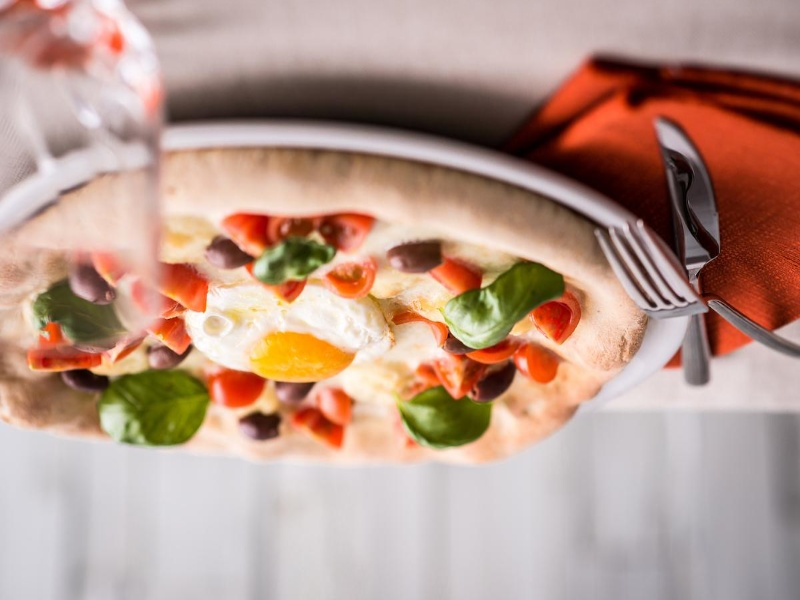oeuf: (234, 318, 373, 390)
